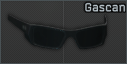Gascan glasses: (0, 0, 127, 64)
